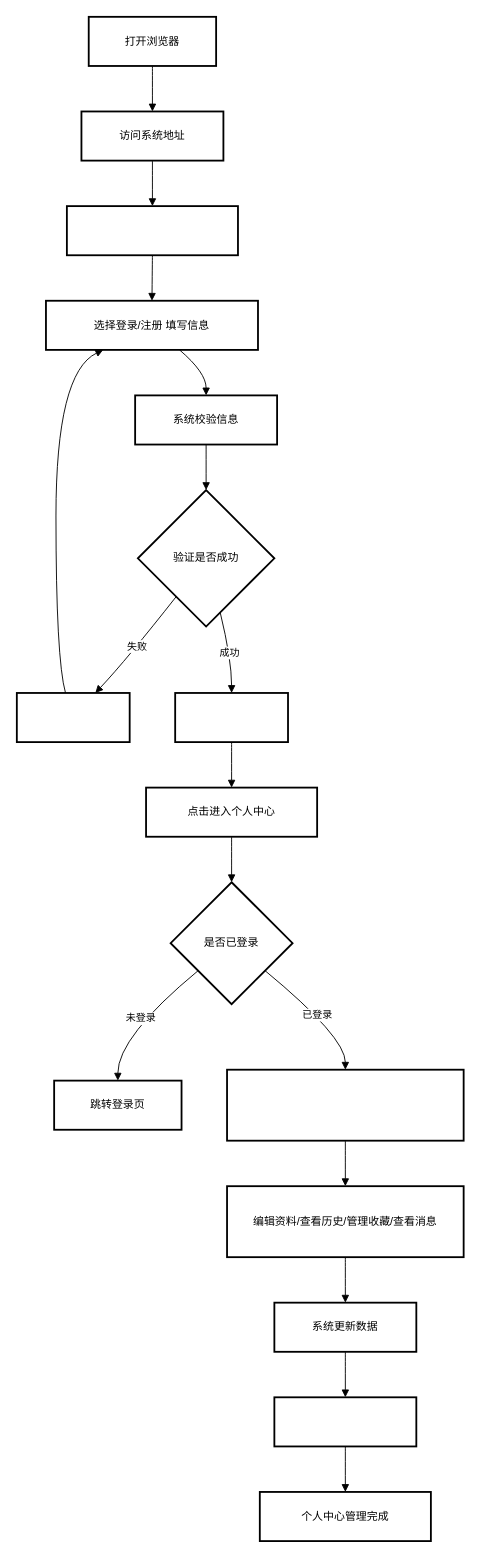
This 480x1557 diagram has some shape labels left out. The shapes that lost their labels are listed below. From the top down, each one's centre as x and y in pixels, then its label:
At (x=152, y=230): "进入登录注册页面".
At (x=72, y=717): "提示错误".
At (x=231, y=717): "系统首页".
At (x=345, y=1104): "个人中心：个人信息+功能菜单".
At (x=345, y=1421): "提示操作成功".
